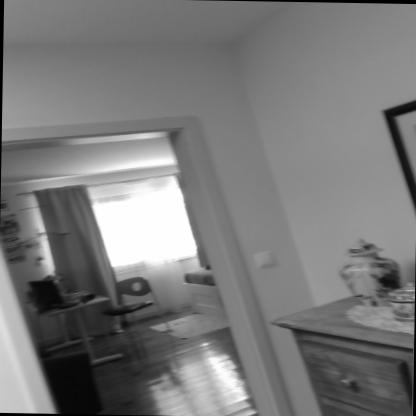open: (0, 96, 297, 416)
